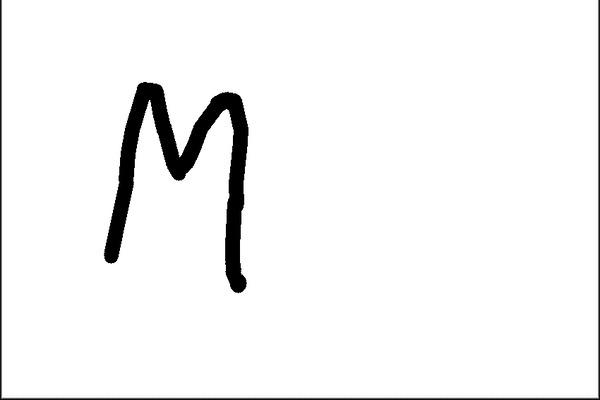M: (102, 77, 251, 303)
